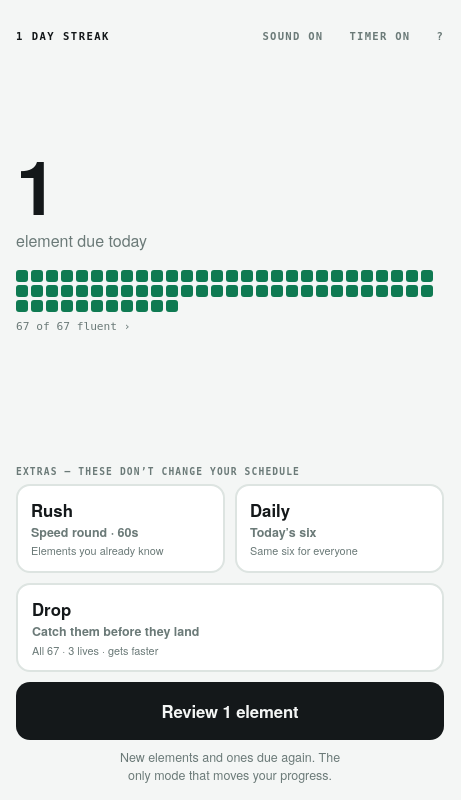
Test: timer toggle › persists and removes the clock from Rush
Step 1. Click the button "Timer on" → click(374, 36), box [337, 14, 410, 58]
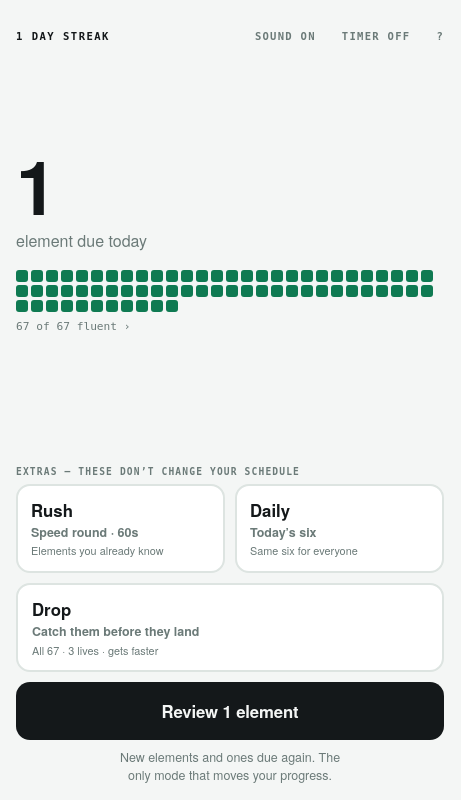
Step 2. Click the button "Rush Speed round · 60s Elements you already know" → click(120, 529), box [16, 484, 225, 573]
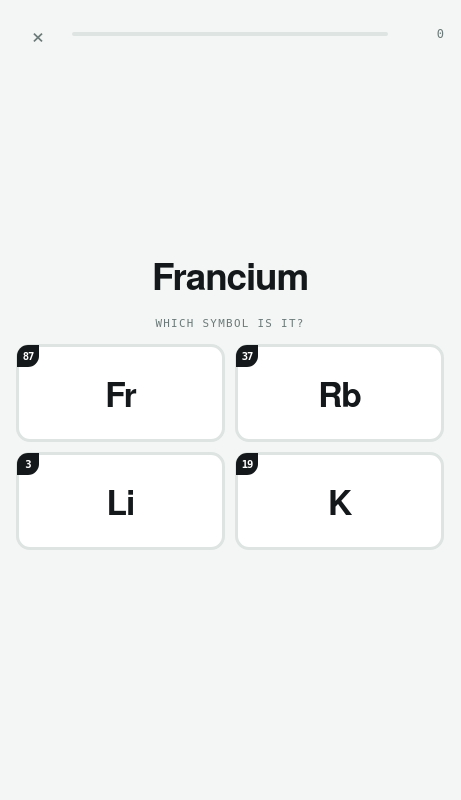
Now the text "Francium" is shown, box [152, 249, 308, 301]
